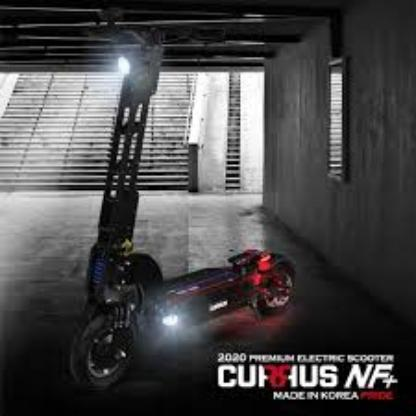bike: (67, 29, 298, 393)
car: (68, 43, 298, 393)
